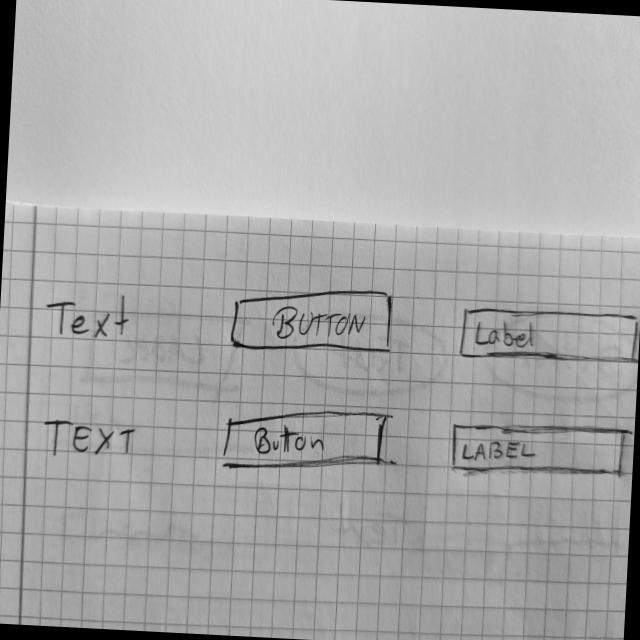button: (228, 279, 396, 361), (220, 400, 389, 480)
input: (454, 300, 640, 371), (444, 414, 628, 484)
label: (44, 287, 132, 345), (40, 416, 137, 464)
